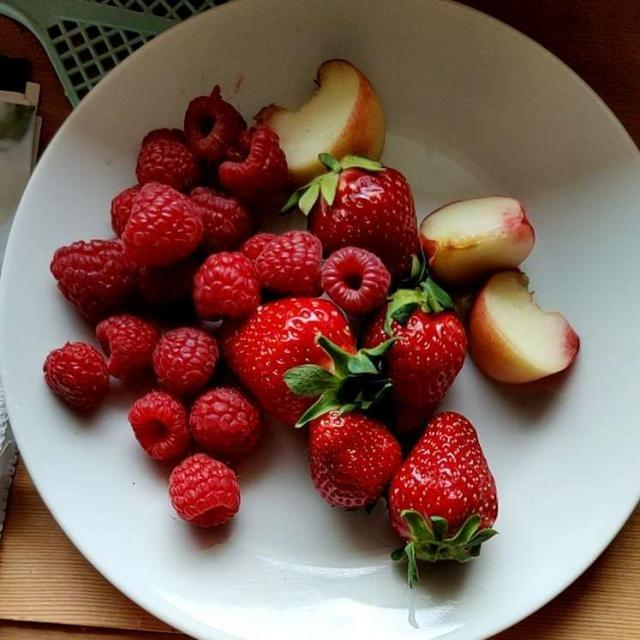peach: (266, 62, 561, 378)
raspberries: (30, 91, 386, 554)
strawberries: (254, 157, 521, 555)
